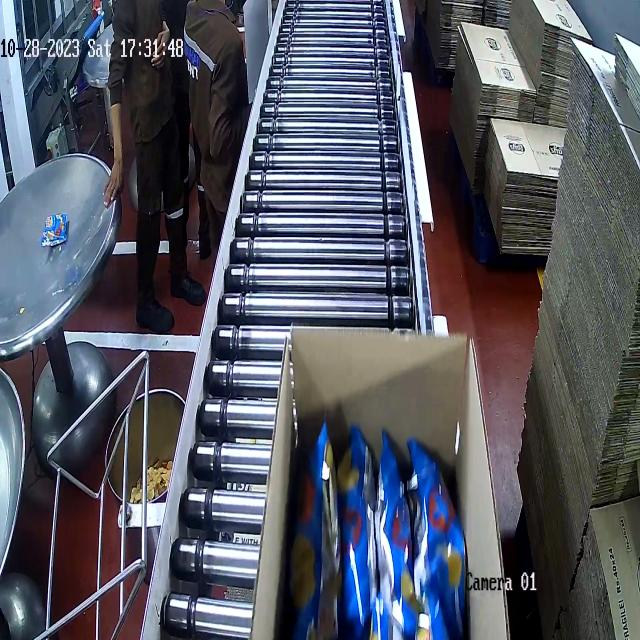PAPRIKA: (296, 403, 474, 640)
